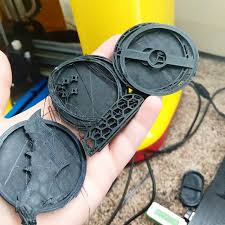fail: (38, 65, 105, 144)
